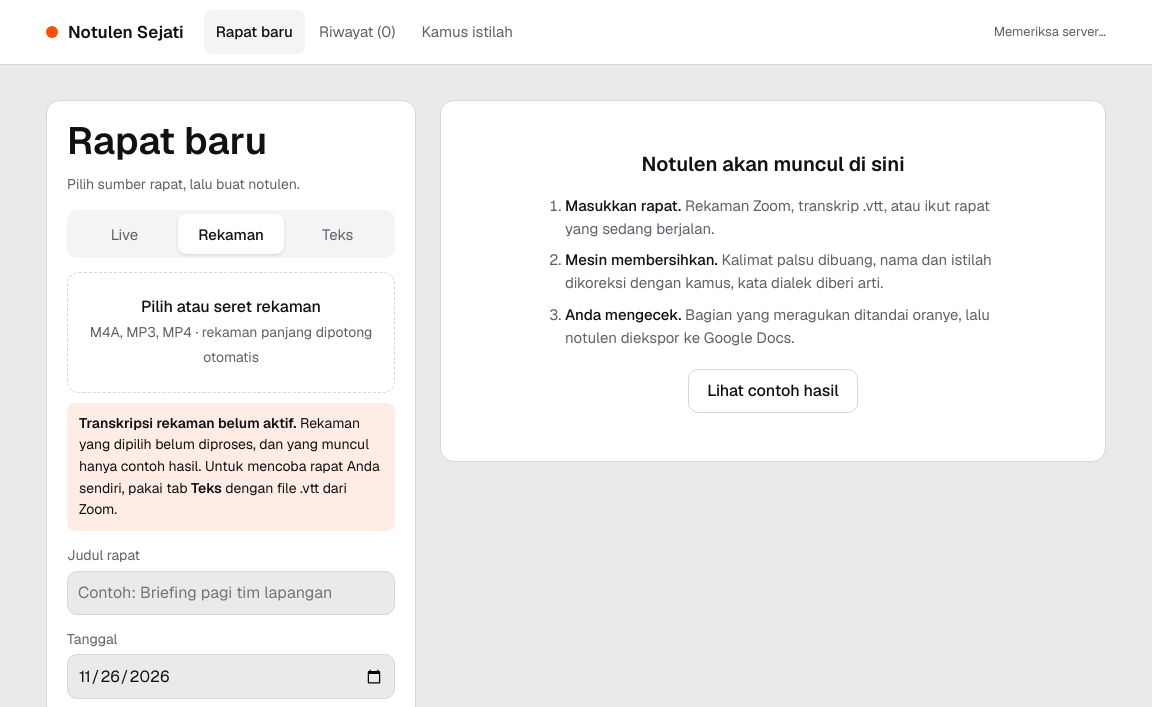
Notulen Sejati › mode live: transkrip berjalan lalu notulen final
The width and height of the screenshot is (1152, 707).
Step 1. Click the tab "Live" → x=124, y=234, box [71, 214, 178, 254]
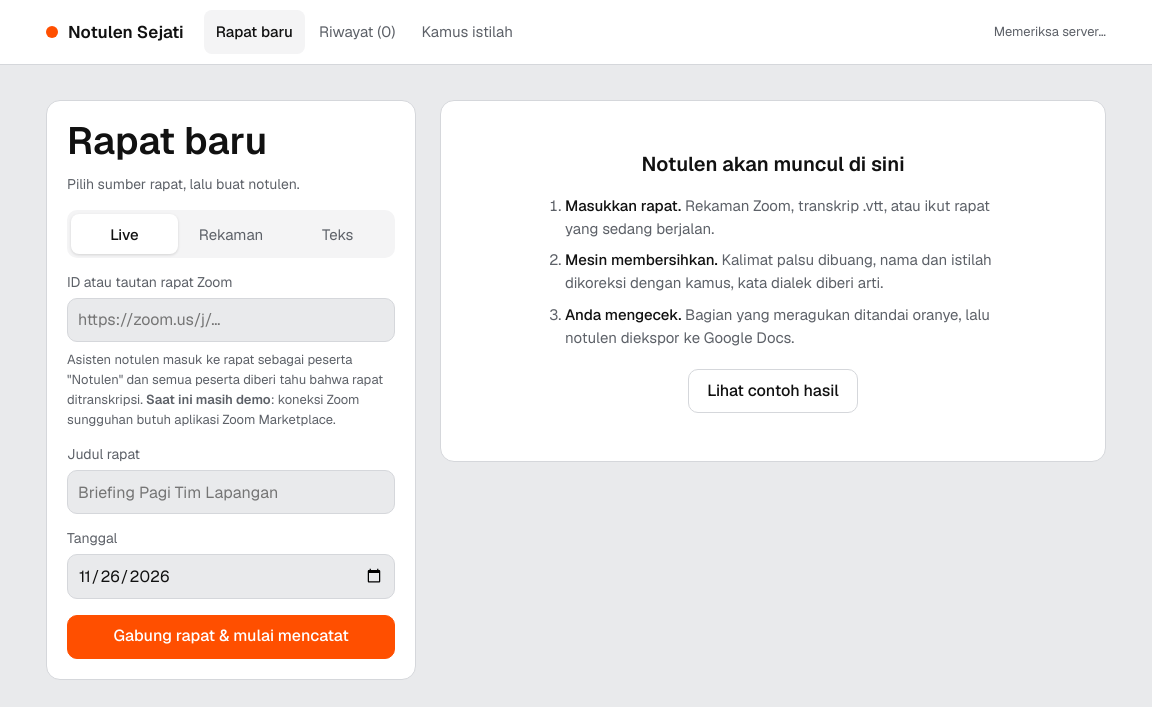
Step 2. Click the button "Gabung rapat & mulai mencatat" → x=231, y=637, box [67, 615, 395, 659]
(page scrolled)
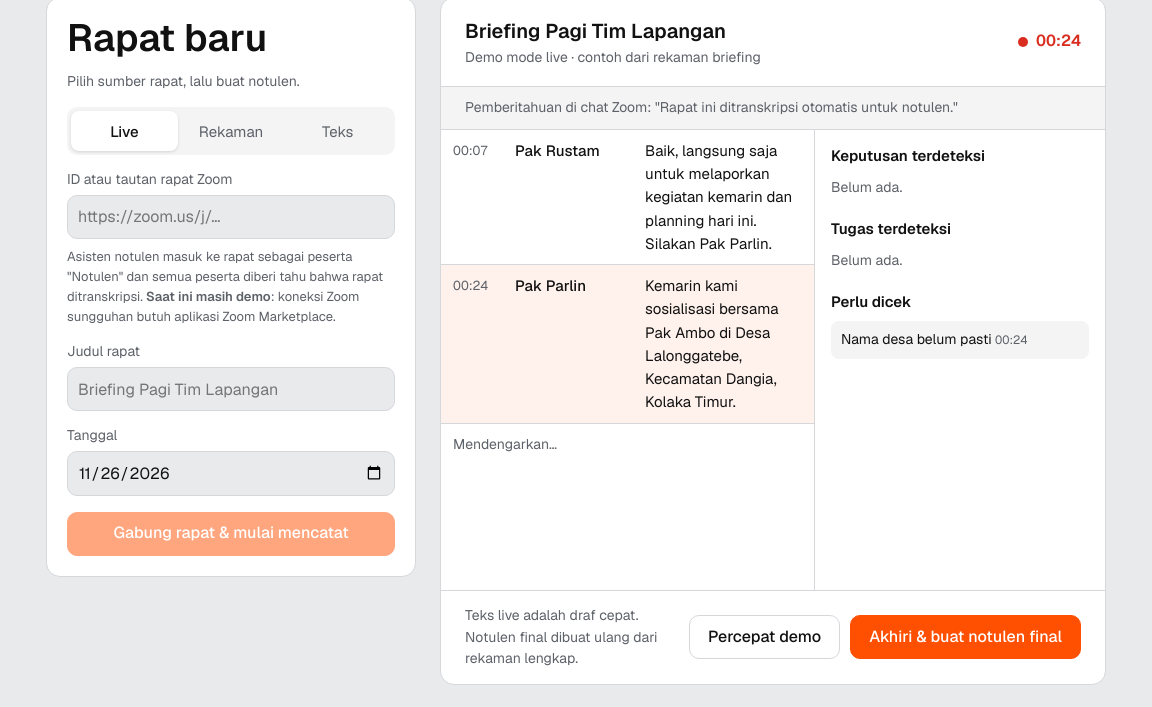
Expected: the text "sosialisasi bersama Pak Ambo" is shown, [645, 276, 778, 412]
Step 3. Click the button "Percepat demo" → x=765, y=638, box [689, 616, 840, 660]
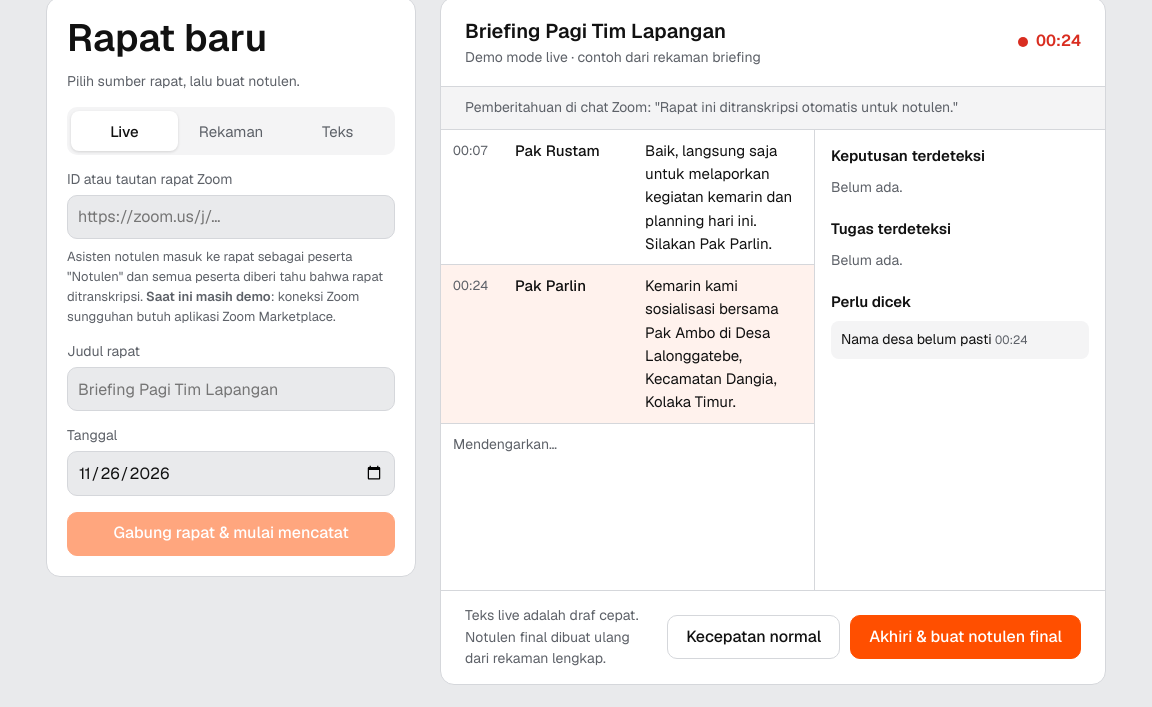
Step 4. Click the button "Akhiri & buat notulen final" → x=966, y=638, box [850, 616, 1081, 660]
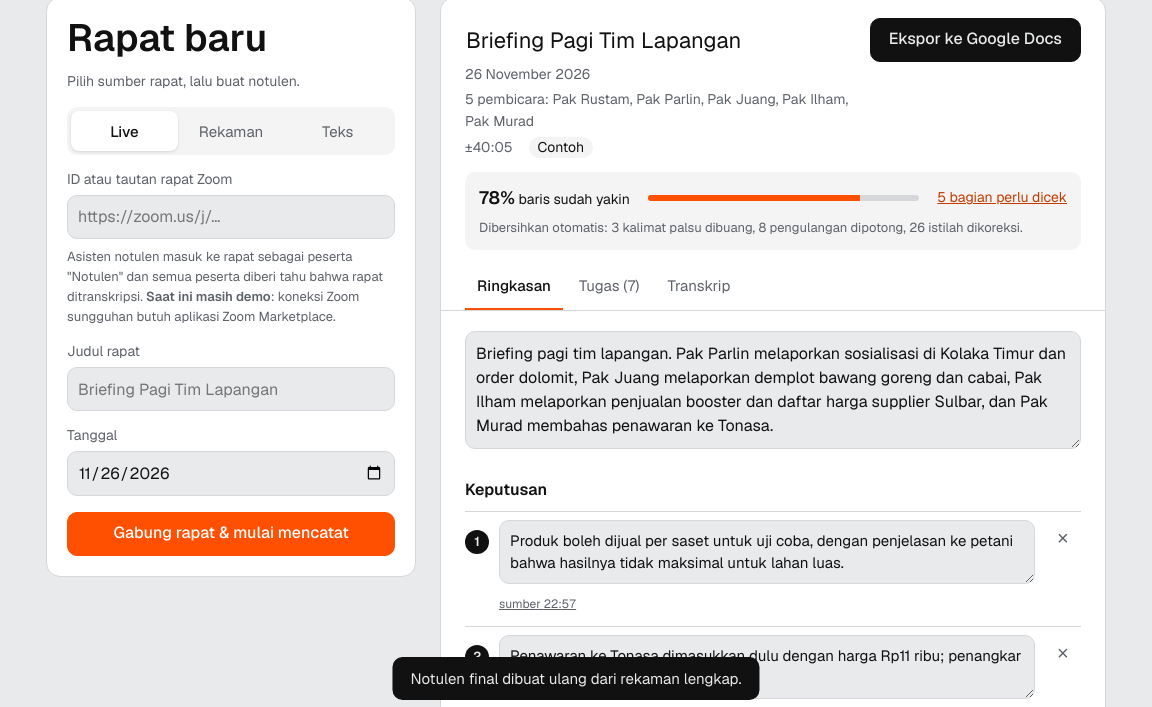
Expected: the button "Ekspor ke Google Docs" is shown, [870, 18, 1081, 62]
